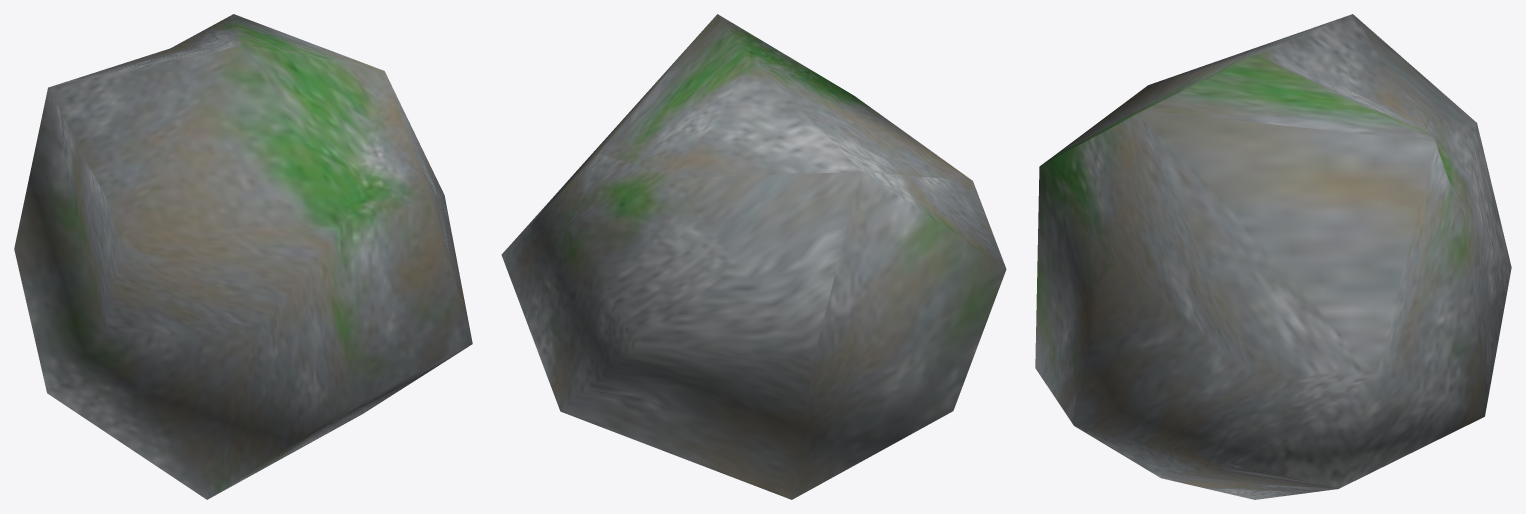
The model's file is Stone_Forest_1_LOD3.obj.
3 views of the same model, side by side, from view 1: azimuth 30°, elevation 25°; view 2: azimuth 150°, elevation 25°; view 3: azimuth 270°, elevation 25° (orthographic). The views are drawn at different scales.
Parts seen in each view (by area): view 1: Stone_F_1_LOD3; view 2: Stone_F_1_LOD3; view 3: Stone_F_1_LOD3.
Boxes of the visible parts, x1=… form: Stone_F_1_LOD3: x1=14, y1=14, x2=472, y2=499; Stone_F_1_LOD3: x1=501, y1=14, x2=1006, y2=499; Stone_F_1_LOD3: x1=1035, y1=14, x2=1511, y2=499.
Size of the model in its own units: 191 by 188 by 182.
1 material, 1 textured.
